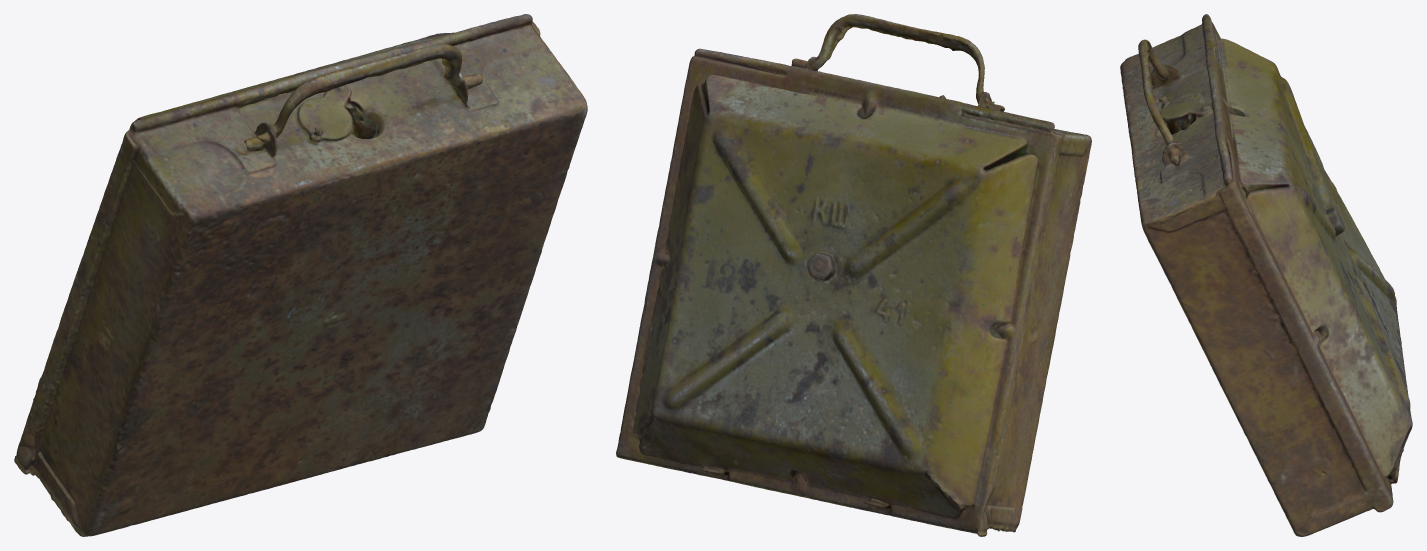
3 views of the same model, side by side, from view 1: azimuth 30°, elevation 25°; view 2: azimuth 150°, elevation 25°; view 3: azimuth 270°, elevation 25° (orthographic). The views are drawn at different scales.
Visible parts, largest first — view 1: Object_3, Object_2; view 2: Object_2, Object_3; view 3: Object_2, Object_3.
Boxes of the visible parts, bbox=[...] form: Object_3: bbox=[15, 14, 587, 536]; Object_2: bbox=[14, 14, 586, 535]; Object_2: bbox=[616, 14, 1091, 536]; Object_3: bbox=[616, 15, 1091, 535]; Object_2: bbox=[1120, 14, 1411, 536]; Object_3: bbox=[1120, 15, 1412, 536].
Size of the model in its own units: 228 by 244 by 164.
1 material, 1 textured.
